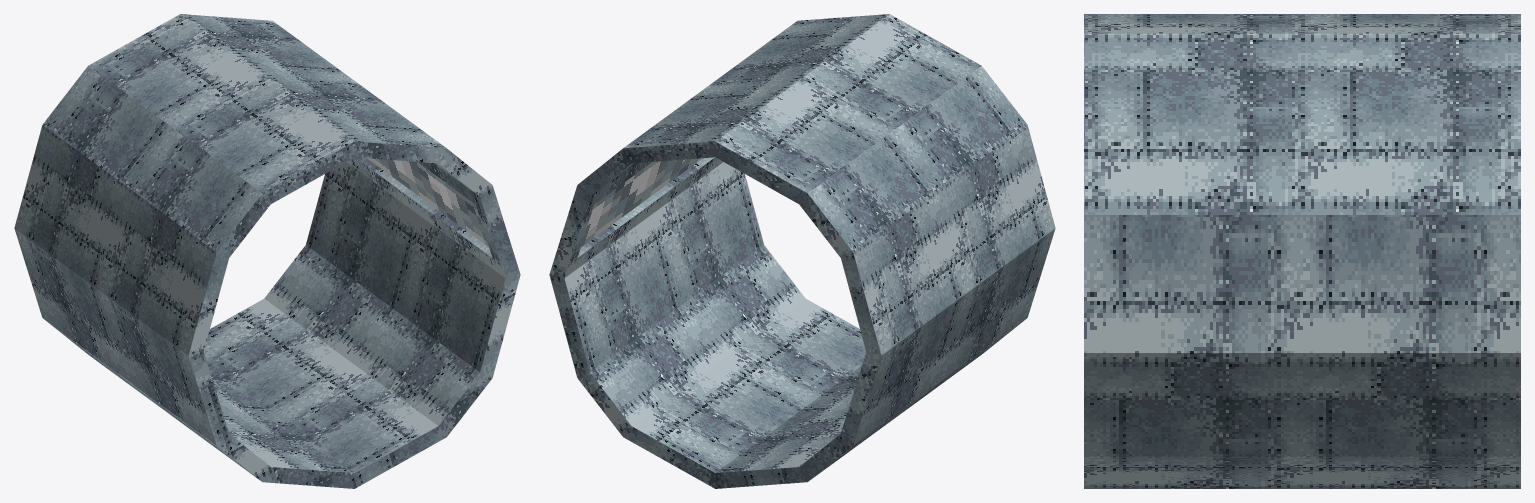
Rendered from Hallway.fbx.
The picture shows the model from 3 angles, left to right: view 1: azimuth 30°, elevation 25°; view 2: azimuth 150°, elevation 25°; view 3: azimuth 270°, elevation 25°; orthographic projection. The views are drawn at different scales.
Visible parts, largest first — view 1: Hallway(InsertCatwalk); view 2: Hallway(InsertCatwalk); view 3: Hallway(InsertCatwalk).
Boxes of the visible parts, x1,y1,x2,y2 form: Hallway(InsertCatwalk): (14,14,520,488); Hallway(InsertCatwalk): (549,14,1055,488); Hallway(InsertCatwalk): (1084,14,1520,488).
Size of the model in its own units: 1034 by 940 by 1034.
2 materials, 2 textured.
